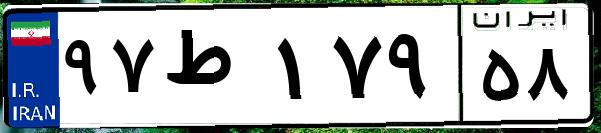1: (270, 28, 330, 110)
5: (475, 38, 525, 113)
7: (330, 28, 385, 110), (110, 28, 158, 98)
8: (525, 38, 570, 115)
9: (385, 28, 445, 110), (57, 26, 110, 100)
ط: (158, 20, 270, 120)
